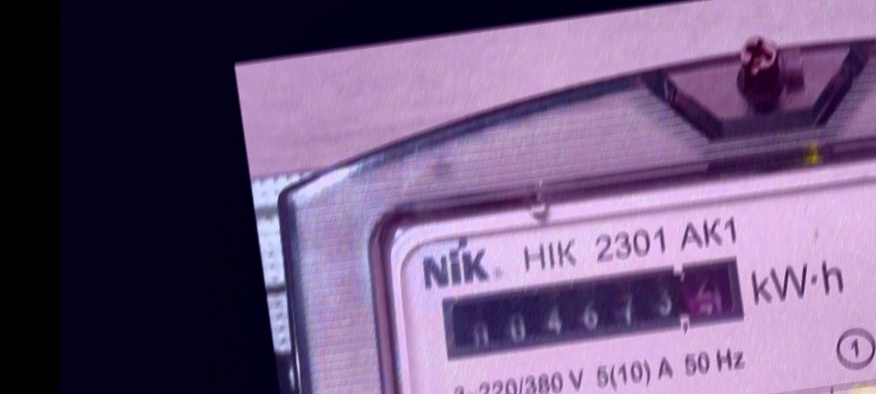0: (467, 317, 491, 349), (504, 310, 526, 343)
2: (689, 268, 713, 302)
3: (652, 282, 673, 319)
4: (541, 301, 564, 338)
6: (575, 296, 600, 332)
7: (612, 290, 639, 330)
screen: (433, 252, 749, 370)
